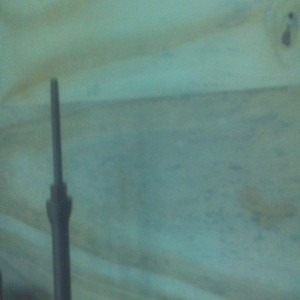obeng: (44, 78, 73, 300)
